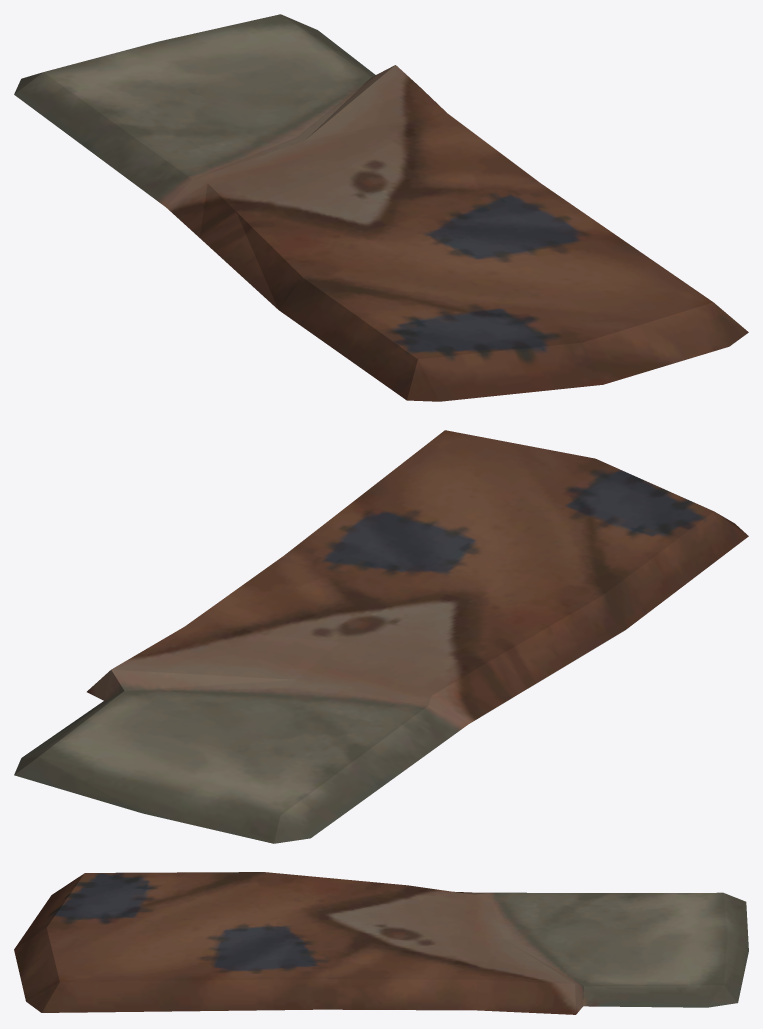
Rendered from bandit_bed_01.fbx.
3 renders of one model, top to bottom at view 1: azimuth 30°, elevation 25°; view 2: azimuth 150°, elevation 25°; view 3: azimuth 270°, elevation 25°, orthographic. The views are drawn at different scales.
Visible parts, largest first — view 1: obj0.529; view 2: obj0.529; view 3: obj0.529.
Part boxes in pixels (x1=…): obj0.529: x1=14, y1=14, x2=748, y2=401; obj0.529: x1=14, y1=430, x2=748, y2=843; obj0.529: x1=14, y1=872, x2=748, y2=1014.
Size of the model in its own units: 1.32 by 0.1028 by 3.14.
